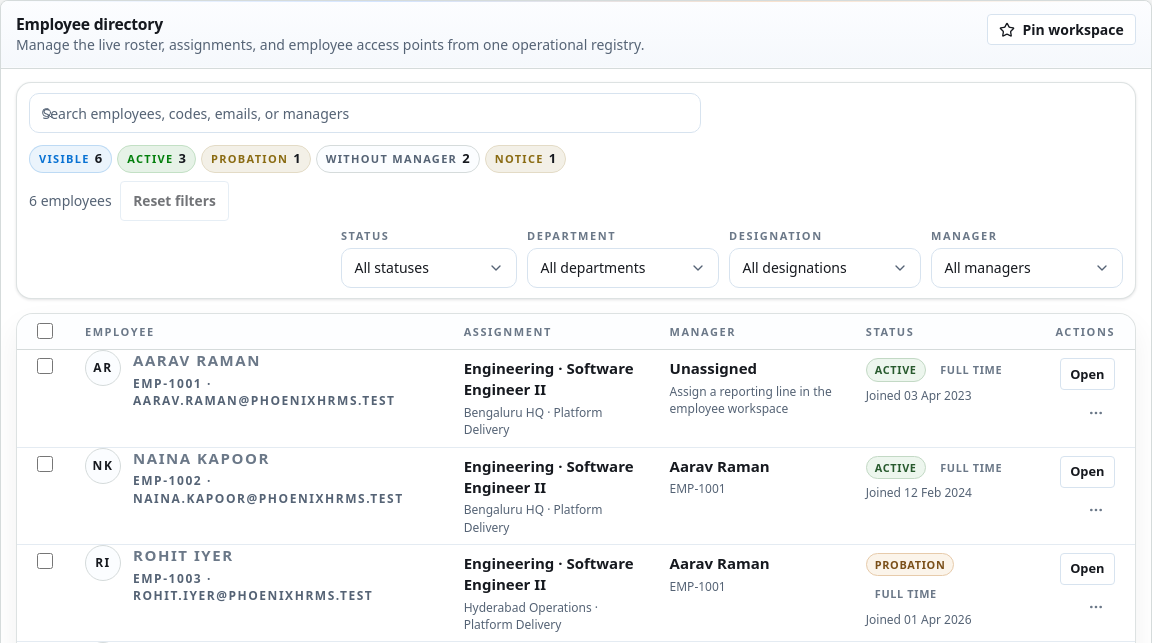
EmployeeDirectoryWorkspace › lets users pin an employee profile from row actions
Click the button named "more actions for".
click(1096, 413)  # box x1=1078 y1=397 x2=1115 y2=429
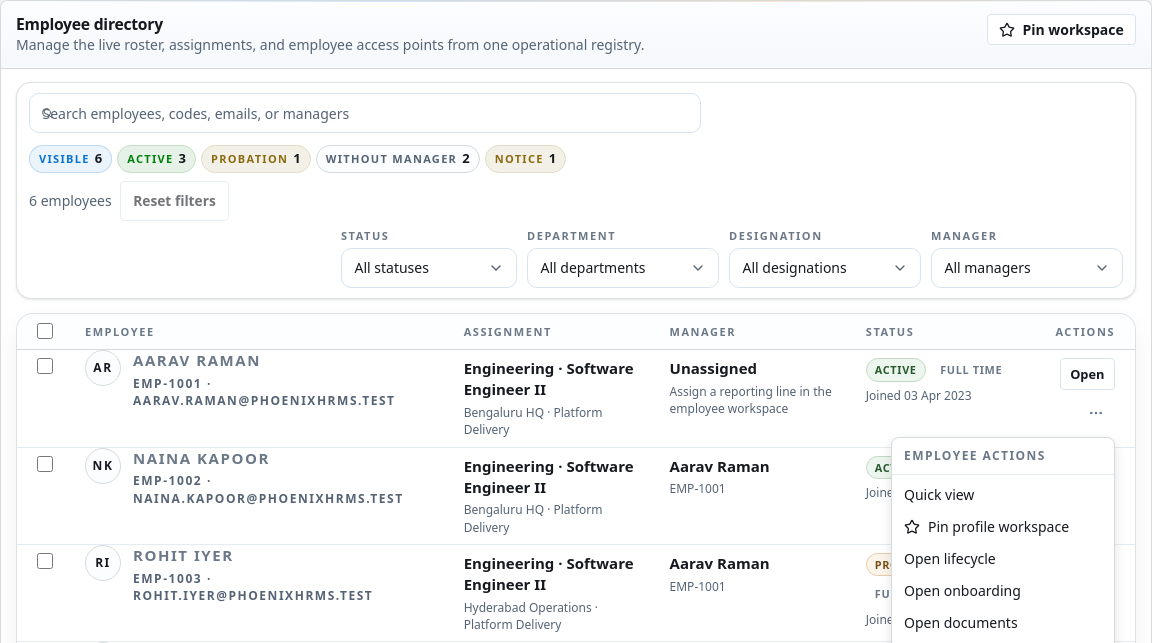
Expected: the menu item "Pin profile workspace" is shown
Click the menu item "Pin profile workspace".
click(987, 526)  # box x1=904 y1=517 x2=1069 y2=536
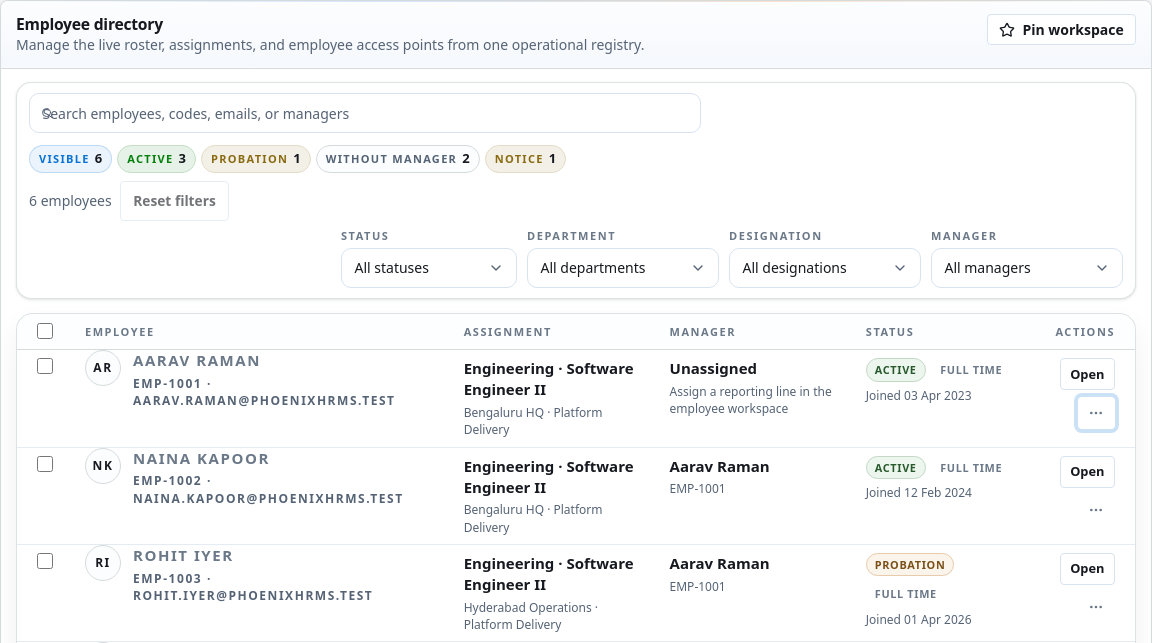
Click the button named "more actions for".
click(1096, 413)  # box x1=1078 y1=397 x2=1115 y2=429
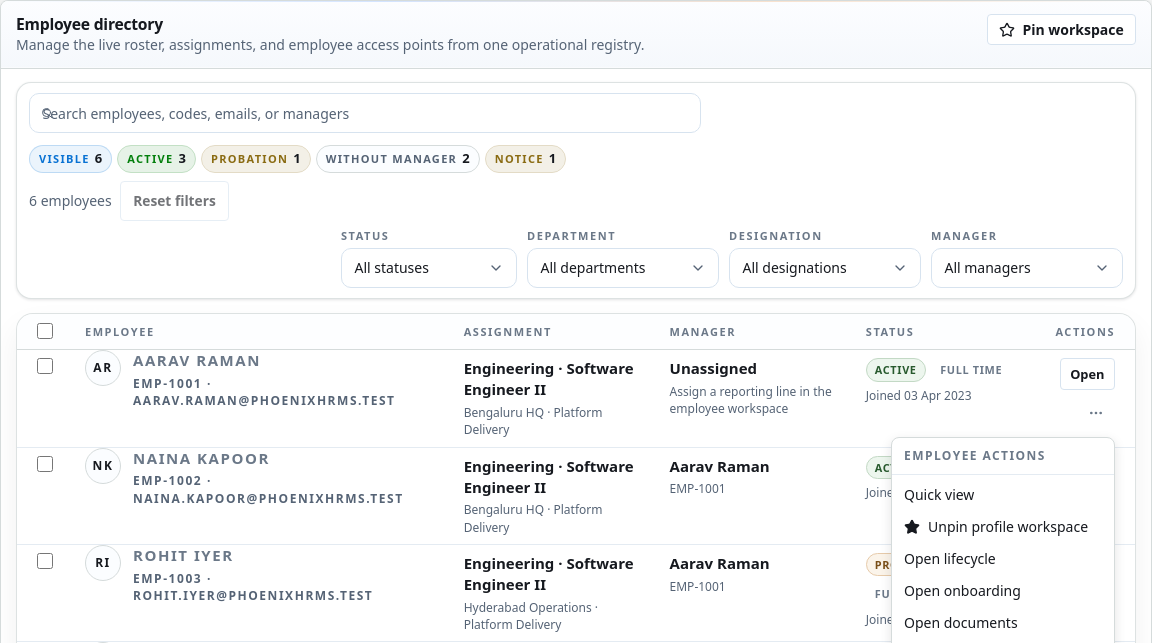
Expected: the menu item "Unpin profile workspace" is shown, x1=904 y1=517 x2=1088 y2=536
